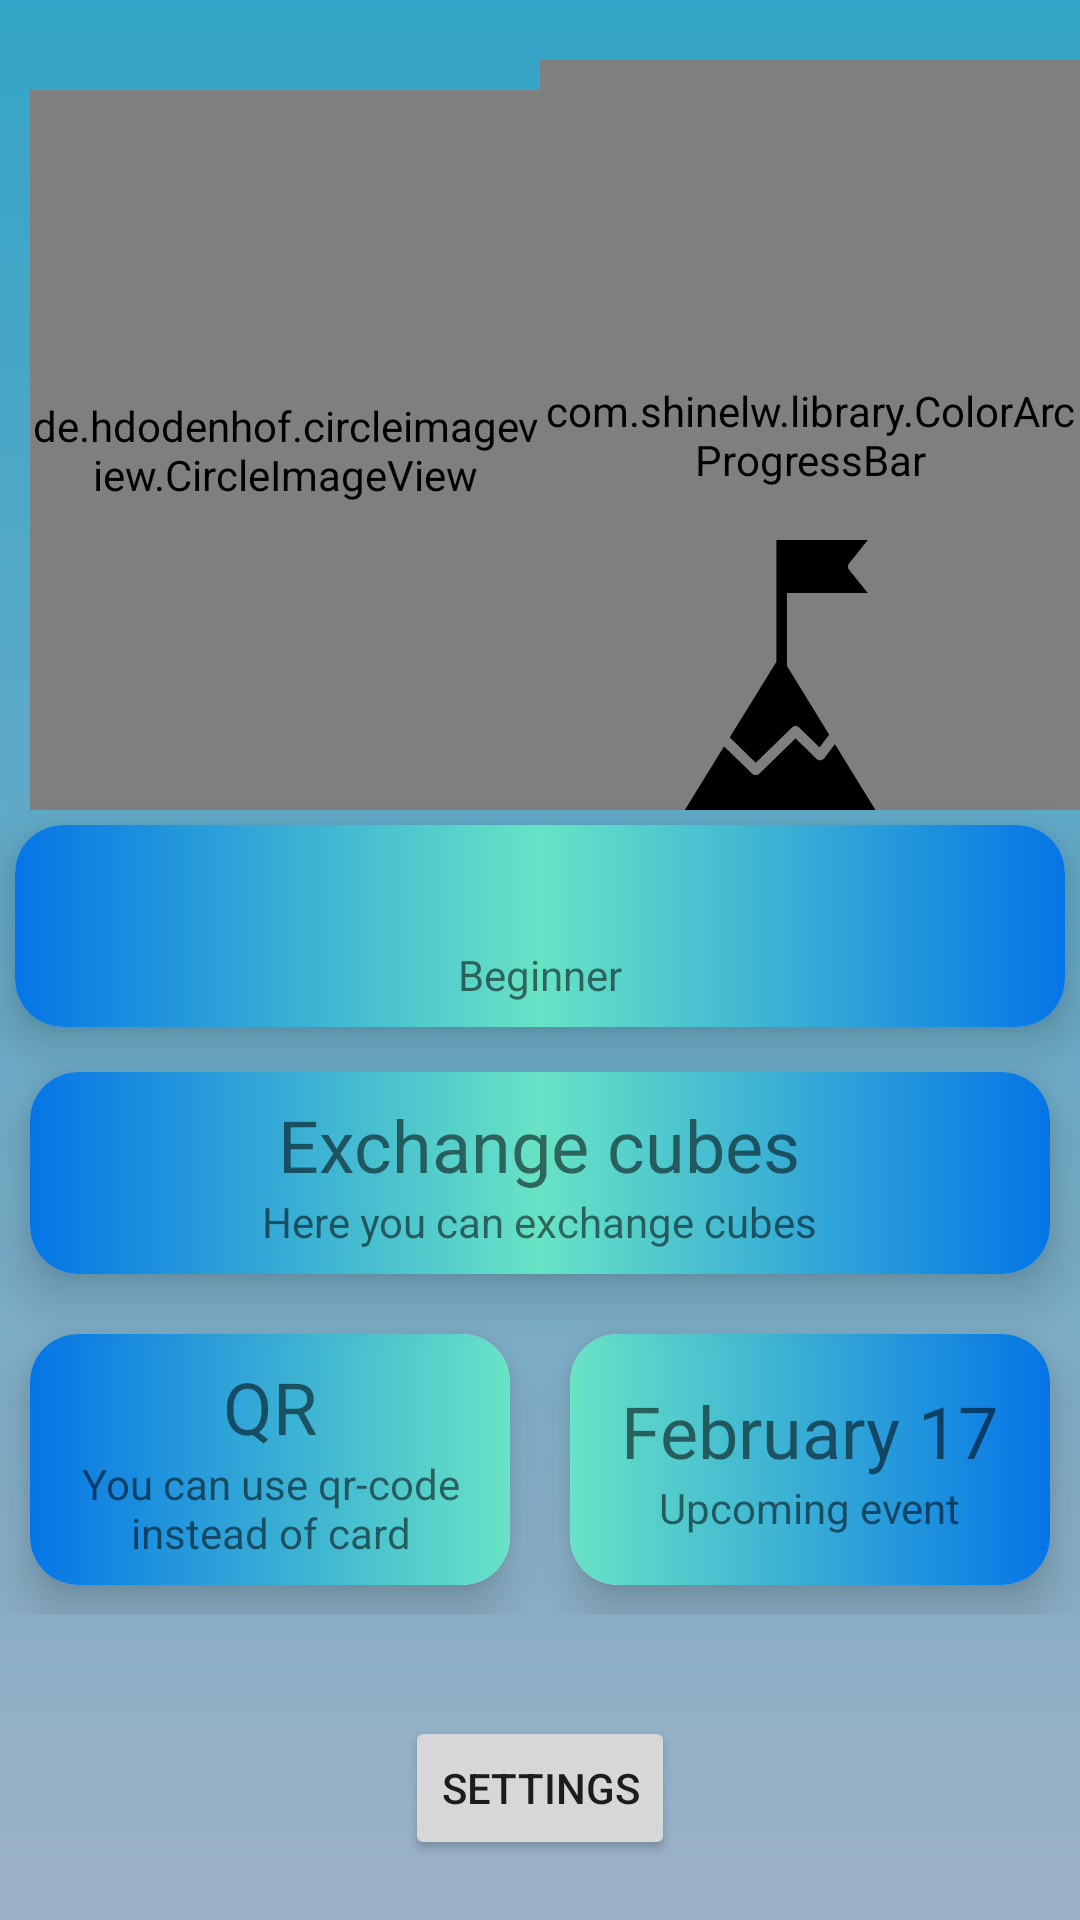

Screen size 1080 × 1920. Icon name, then its box in pixels as (x1, y1, x2, y2):
achievement: (730, 540, 868, 763)
